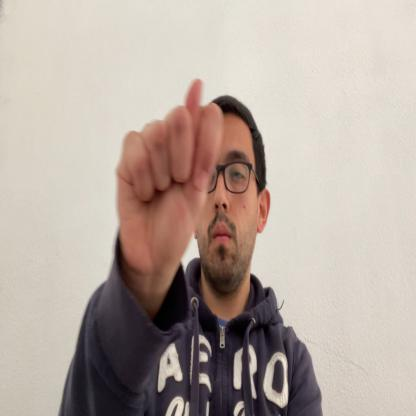T: (116, 78, 224, 288)
